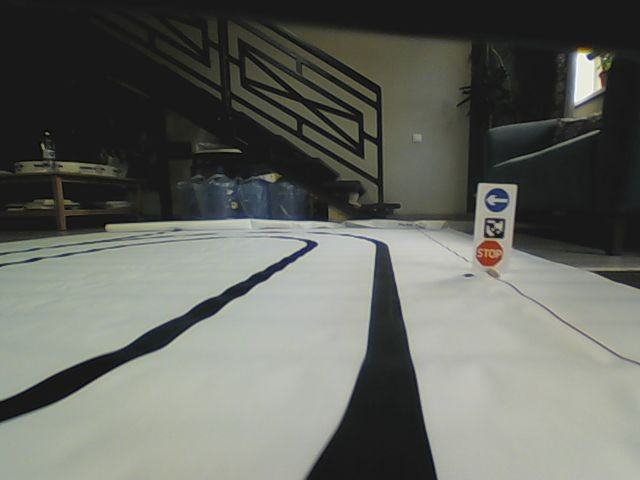Stop: (477, 241, 503, 264)
